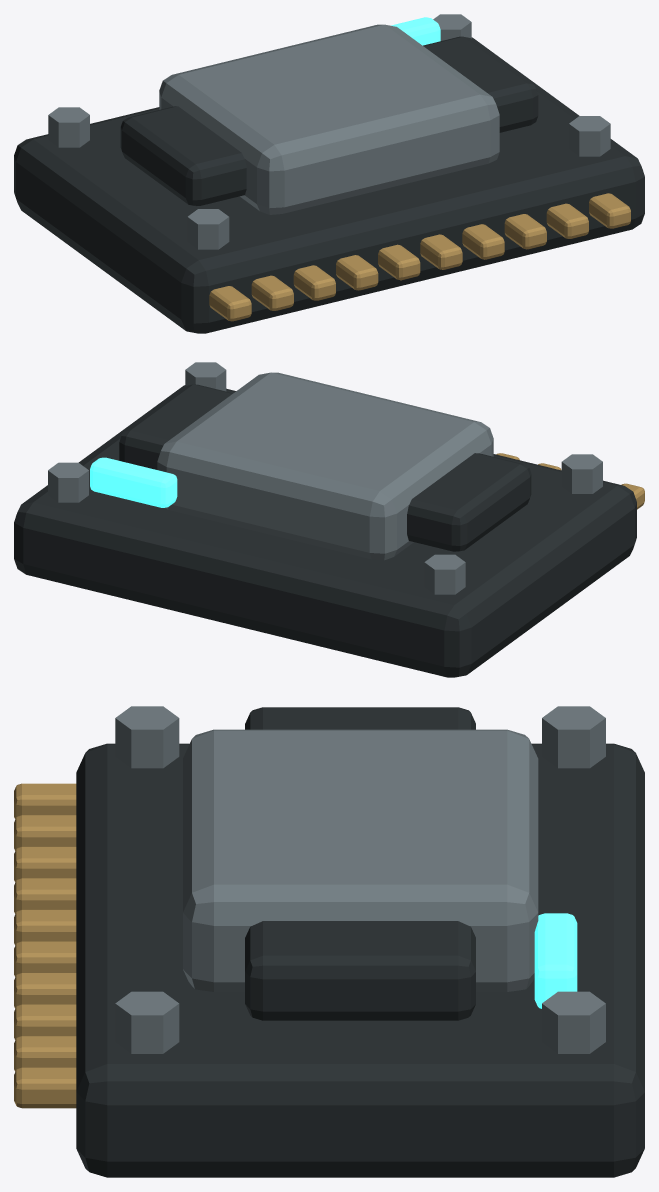
The model's file is internal_memory.glb.
3 renders of one model, top to bottom at view 1: azimuth 30°, elevation 25°; view 2: azimuth 150°, elevation 25°; view 3: azimuth 270°, elevation 25°, orthographic. The views are drawn at different scales.
Parts seen in each view (by area): view 1: Cube, Cube.001, Cube.013, Cube.015, Cylinder, Cylinder.001, Cylinder.002, Cube.008, Cube.010, Cube.002, Cube.006, Cube.007 (+7 smaller); view 2: Cube, Cube.001, Cube.013, Cube.015, Cube.012, Cylinder.001, Cylinder, Cylinder.003, Cylinder.002; view 3: Cube, Cube.001, Cube.015, Cube.013, Cylinder.002, Cylinder, Cylinder.001, Cylinder.003, Cube.012, Cube.011, Cube.004, Cube.006 (+7 smaller).
Boxes of the visible parts, x1,y1,x2,y2 form: Cube: [14, 37, 644, 333]; Cube.001: [159, 24, 499, 214]; Cube.013: [120, 106, 246, 206]; Cube.015: [423, 36, 538, 132]; Cylinder: [187, 209, 229, 249]; Cylinder.001: [48, 107, 89, 147]; Cylinder.002: [569, 116, 610, 156]; Cube.008: [462, 224, 504, 259]; Cube.010: [546, 203, 588, 238]; Cube.002: [209, 286, 251, 321]; Cube.006: [378, 244, 420, 280]; Cube.007: [420, 234, 462, 269]; Cube: [14, 385, 636, 677]; Cube.001: [157, 372, 493, 560]; Cube.013: [407, 453, 531, 551]; Cube.015: [119, 384, 232, 469]; Cube.012: [90, 457, 177, 507]; Cylinder.001: [424, 554, 465, 594]; Cylinder: [561, 454, 602, 493]; Cylinder.003: [48, 462, 88, 502]; Cylinder.002: [185, 362, 226, 391]; Cube: [76, 743, 644, 1177]; Cube.001: [183, 729, 538, 991]; Cube.015: [245, 921, 475, 1020]; Cube.013: [245, 707, 475, 729]; Cylinder.002: [115, 991, 179, 1053]; Cylinder: [115, 706, 179, 768]; Cylinder.001: [542, 706, 605, 768]; Cylinder.003: [542, 991, 605, 1053]; Cube.012: [534, 913, 577, 1008]; Cube.011: [14, 1067, 76, 1108]; Cube.004: [14, 846, 76, 882]; Cube.006: [14, 909, 76, 945].
Size of the model in its own units: 0.23 by 0.065 by 0.1775.
